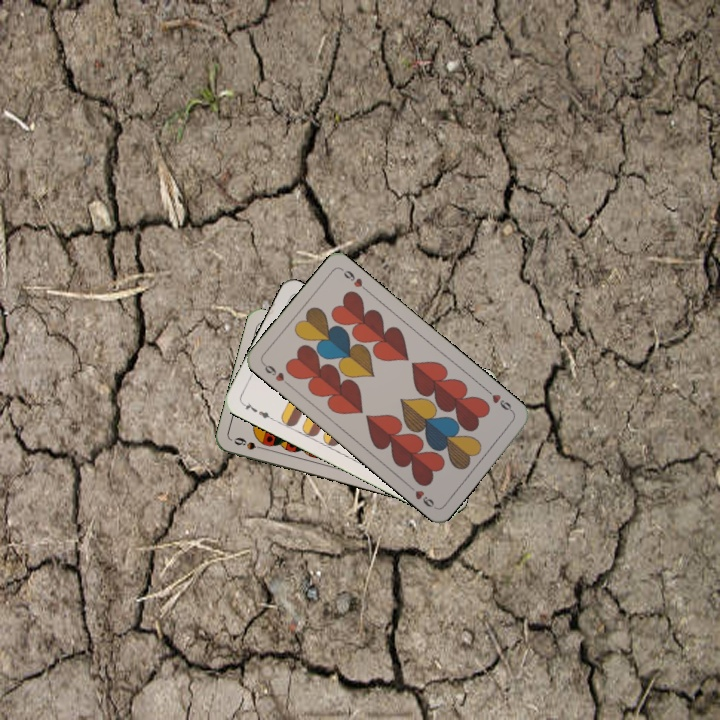E7: (238, 398, 276, 423)
H9: (259, 359, 293, 389), (482, 385, 516, 415)
S9: (230, 433, 269, 453)
